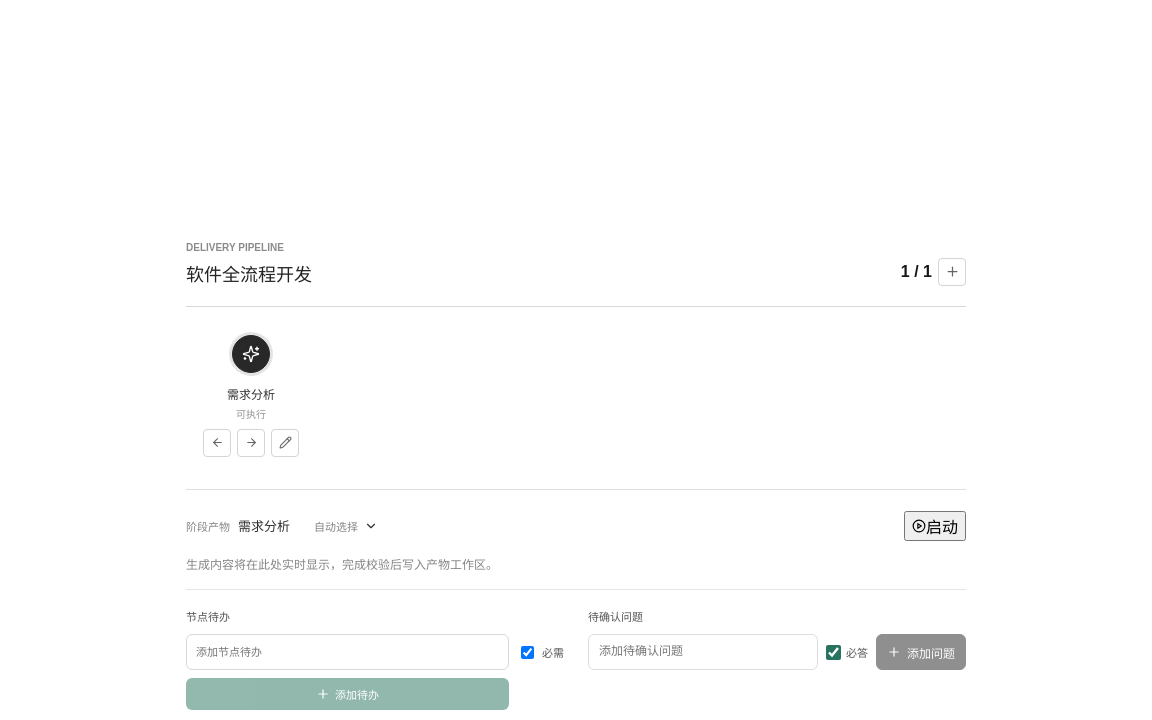
Scenario: RequirementDetailPage AI run controls › keeps persisted node state and safely toasts rejected controls
(page scrolled)
Click the button with aria-label "启动节点" at (935, 526), box [904, 511, 966, 541]
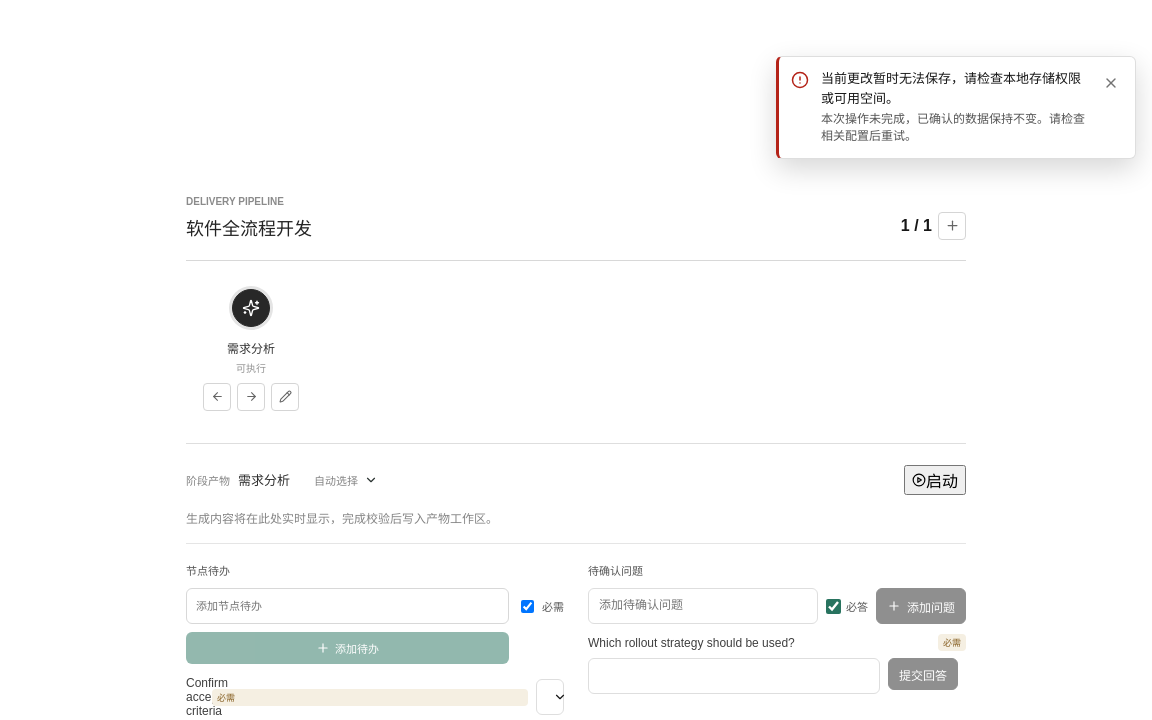
Check: the button with aria-label "启动节点" is shown, box [904, 465, 966, 495]
Check: the text "当前更改暂时无法保存，请检查本地存储权限或可用空间。" is shown, box [821, 69, 1087, 108]
